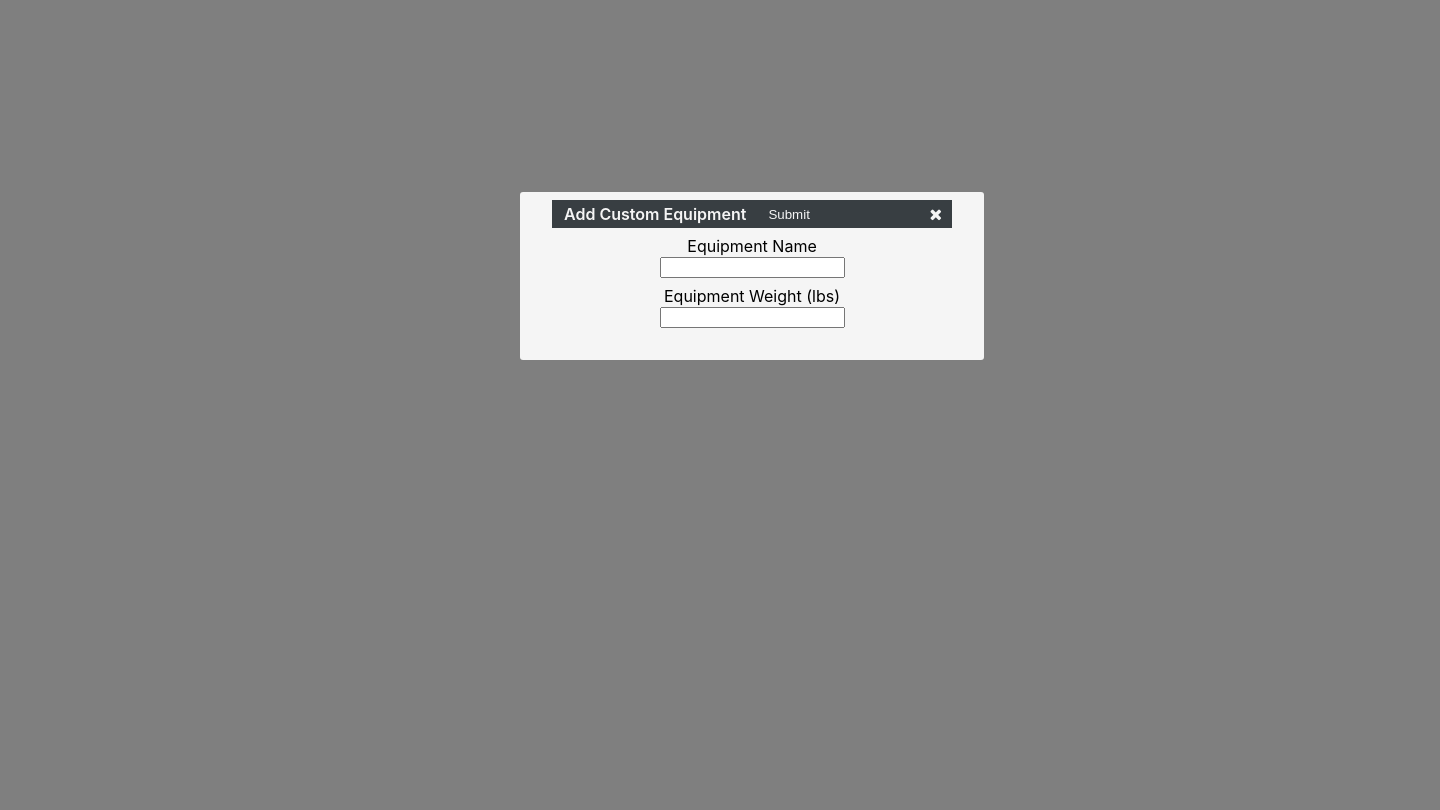
Scenario: adding custom equipment › should display error msg if custom equipment name not provided
Type "666" into the field below "Equipment Weight (lbs)" at [752, 318], box left=660, top=307, right=844, bottom=328
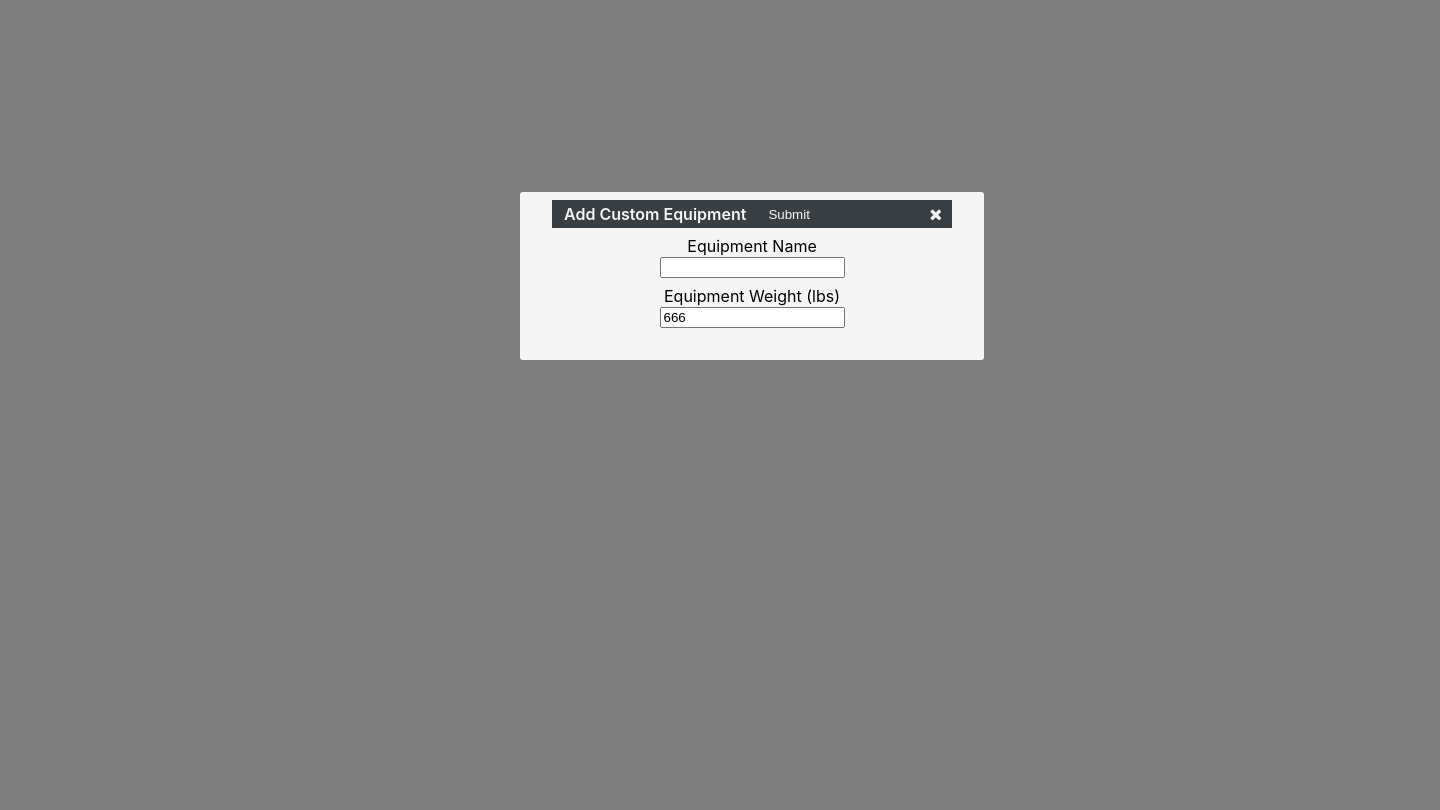
Click the button "Submit" at [789, 214], box left=762, top=206, right=816, bottom=222
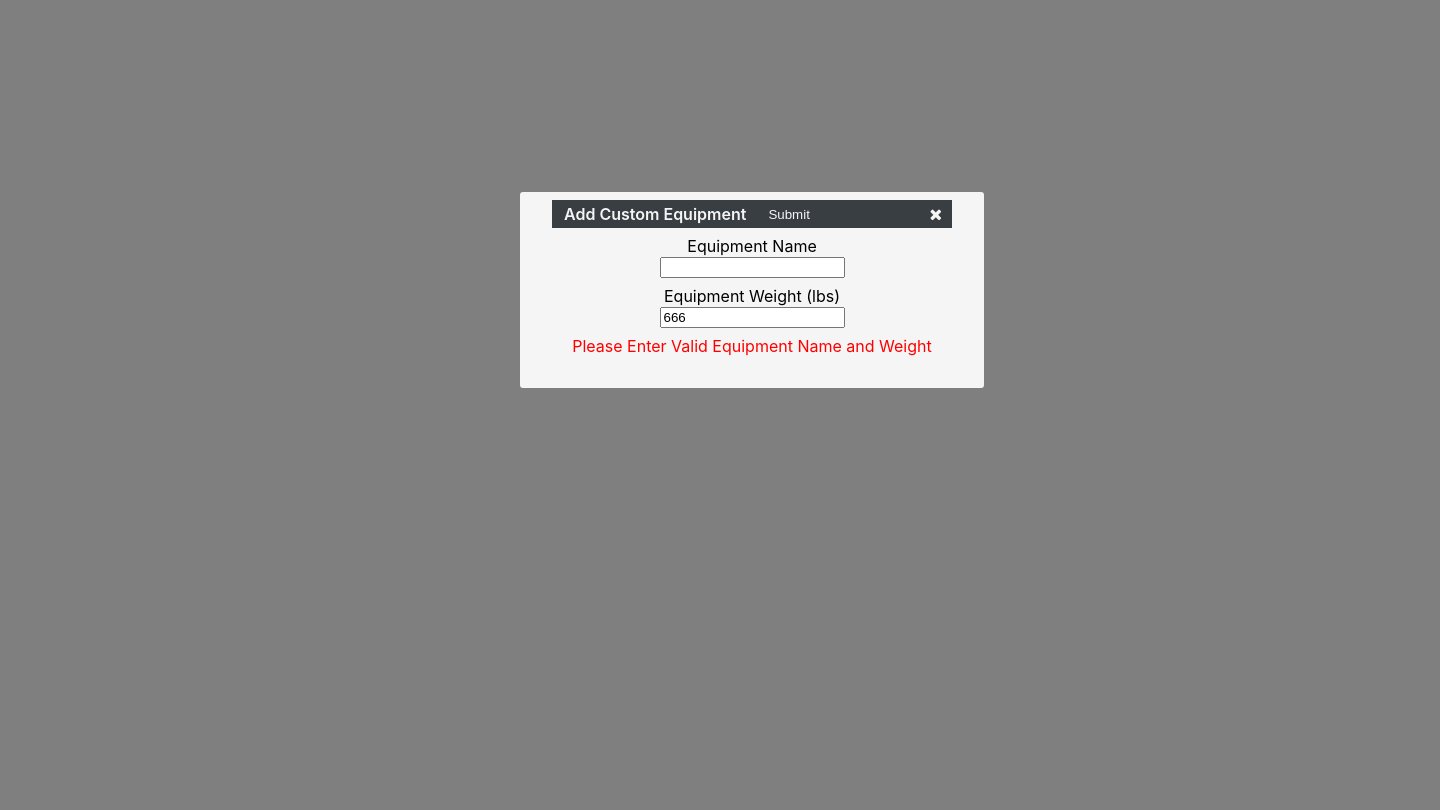
Check: the text "Please Enter Valid Equipment Name and Weight" is shown, box left=552, top=336, right=952, bottom=356
